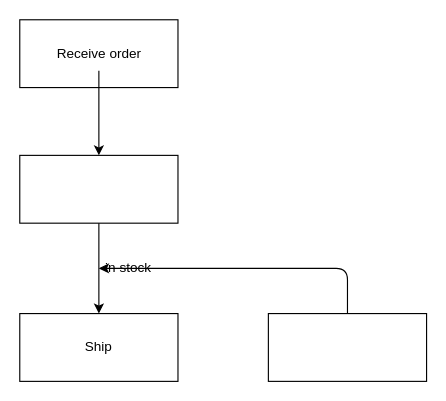
The diagram is 446 pixels wide and 401 high, and some of its shapes have lost their labels. The shapes that lost their labels are listed below. From the top down, each one's centre as x and y in pixels, then its label:
At pixel 98 188: "Check stock".
At pixel 347 346: "Refund".
